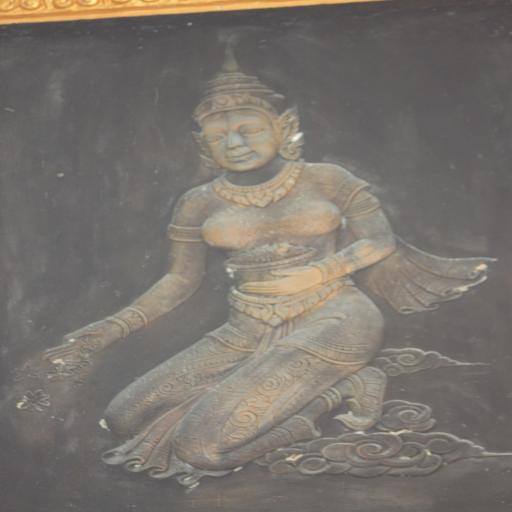than: (48, 52, 512, 484)
